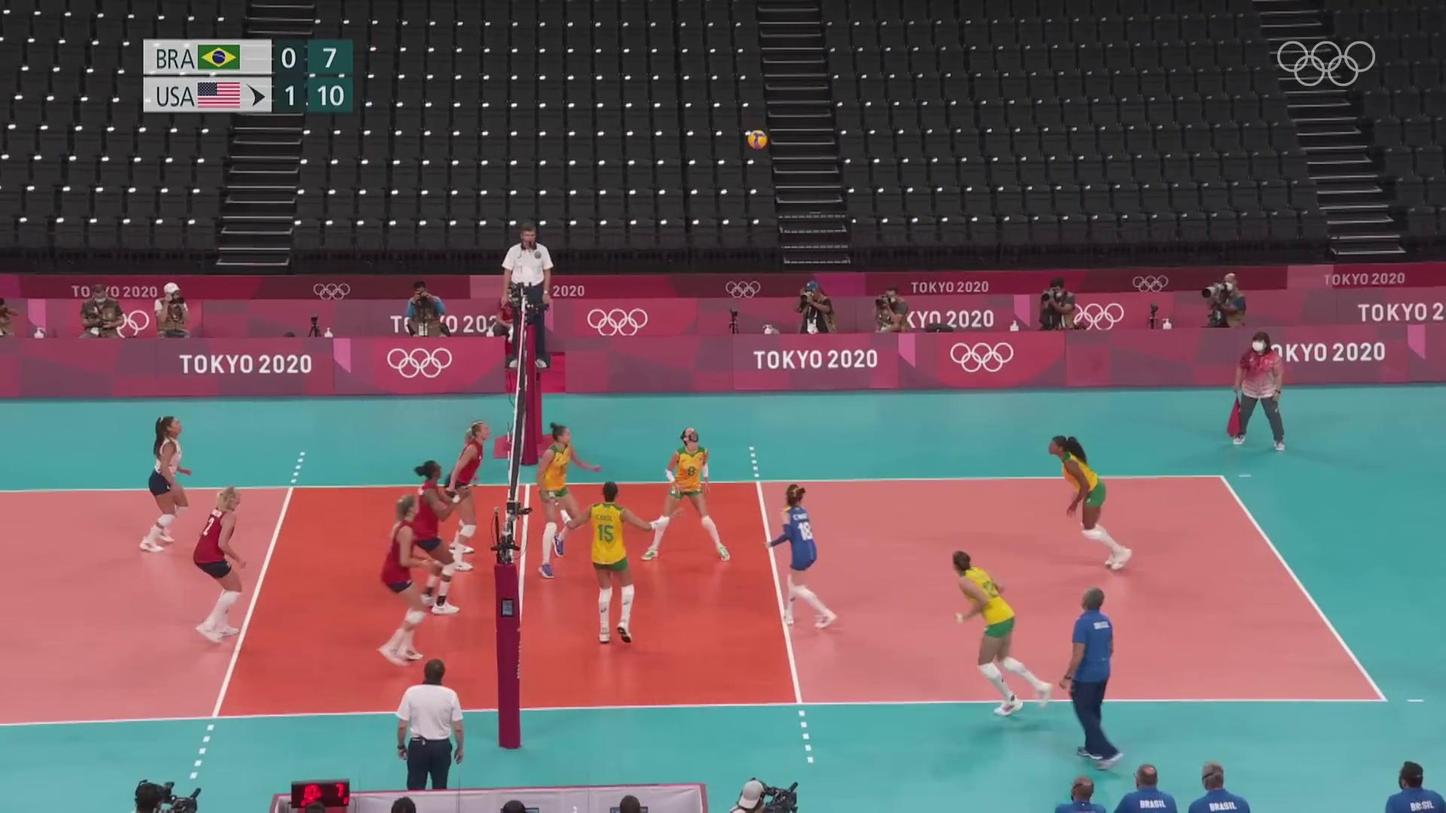player: (949, 550, 1054, 716), (565, 482, 658, 647), (1049, 436, 1138, 569), (642, 427, 731, 560), (768, 485, 840, 630), (377, 498, 437, 665), (535, 425, 600, 576), (192, 487, 252, 645), (409, 461, 470, 612), (144, 417, 199, 552), (446, 422, 495, 570)
refree: (1058, 595, 1122, 765), (396, 661, 467, 790), (502, 220, 555, 368), (1230, 330, 1289, 452)
